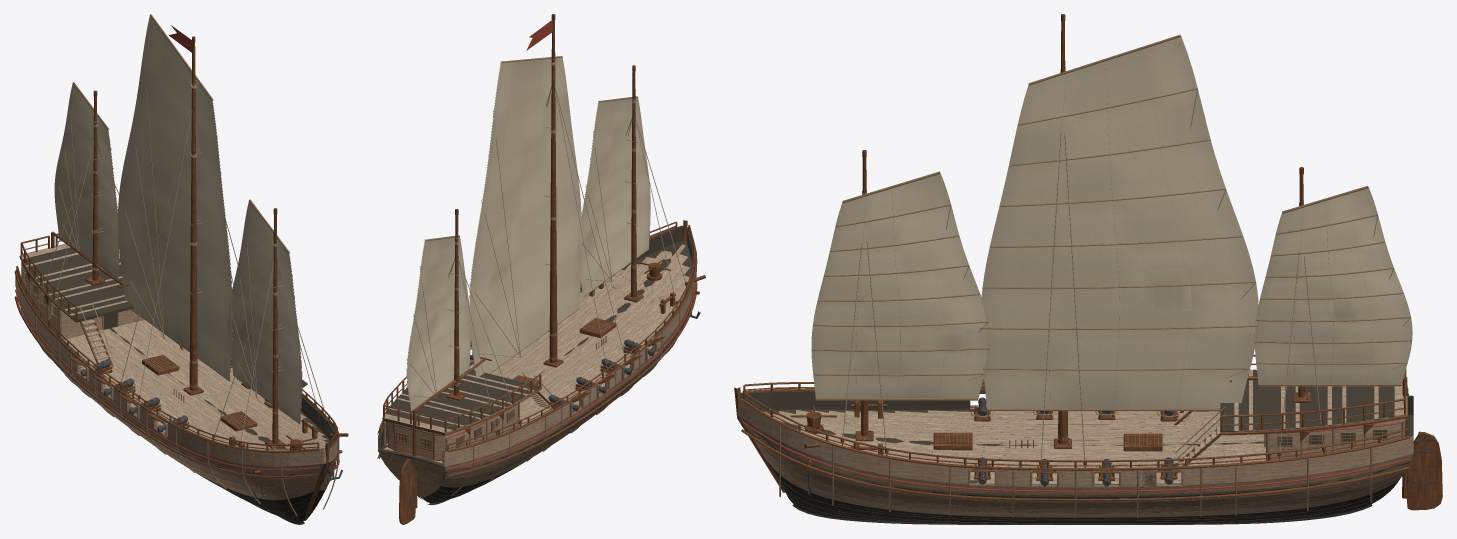
Rendered from fuchuan-lod1.glb.
The picture shows the model from 3 angles, left to right: view 1: azimuth 30°, elevation 25°; view 2: azimuth 150°, elevation 25°; view 3: azimuth 270°, elevation 25°; orthographic projection. The views are drawn at different scales.
Visible parts, largest first — view 1: sail_1, hull, deck, sail_0, sail_2, shadow_deck, deck_fittings, bulwark_rails, mast_timber_1, shadow_hull, sterncastle, mast_timber_0 (+6 smaller); view 2: sail_1, deck, hull, sail_0, sail_2, shadow_deck, deck_fittings, shadow_hull, bulwark_rails, mast_timber_1, mast_timber_0, stern_transom (+7 smaller); view 3: sail_1, hull, sail_0, sail_2, deck, shadow_hull, shadow_deck, deck_fittings, bulwark_rails, rudder_blade, sterncastle, rigging_1.
Boxes of the visible parts, x1,y1,x2,y2 form: sail_1: (118, 14, 232, 381); hull: (14, 270, 339, 524); deck: (19, 243, 329, 450); sail_0: (228, 199, 302, 424); sail_2: (54, 82, 119, 278); shadow_deck: (22, 247, 133, 322); deck_fittings: (21, 262, 348, 498); bulwark_rails: (16, 233, 337, 450); mast_timber_1: (189, 43, 197, 390); shadow_hull: (15, 270, 335, 521); sterncastle: (23, 266, 144, 339); mast_timber_0: (272, 214, 278, 443); sail_1: (469, 56, 582, 378); deck: (382, 244, 689, 463); hull: (377, 220, 697, 504); sail_0: (578, 96, 650, 297); sail_2: (406, 235, 470, 411); shadow_deck: (383, 369, 540, 435); deck_fittings: (383, 259, 705, 460); shadow_hull: (378, 225, 693, 502); bulwark_rails: (379, 221, 695, 450); mast_timber_1: (549, 20, 557, 362); mast_timber_0: (631, 71, 636, 297); stern_transom: (388, 423, 444, 459); sail_1: (980, 35, 1258, 411); hull: (734, 387, 1413, 524); sail_0: (811, 171, 990, 400); sail_2: (1254, 186, 1412, 386); deck: (763, 369, 1407, 483); shadow_hull: (738, 390, 1413, 523); shadow_deck: (1220, 369, 1394, 432); deck_fittings: (790, 385, 1407, 494); bulwark_rails: (743, 354, 1408, 467); rudder_blade: (1406, 431, 1442, 510); sterncastle: (1266, 418, 1404, 460); rigging_1: (1039, 132, 1086, 473).
Bounding box in the file's own units: 10.4 × 26.66 × 33.57.
Materials: 13 (8 with a texture image).
